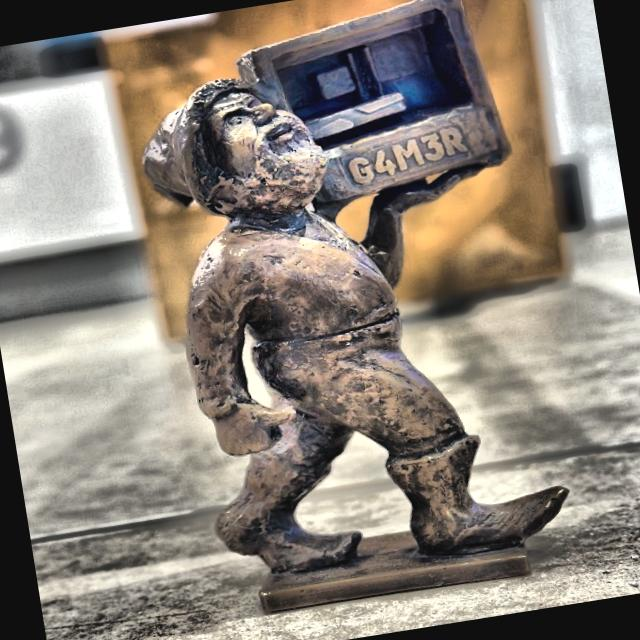GigaHercjusz: (144, 0, 567, 612)
